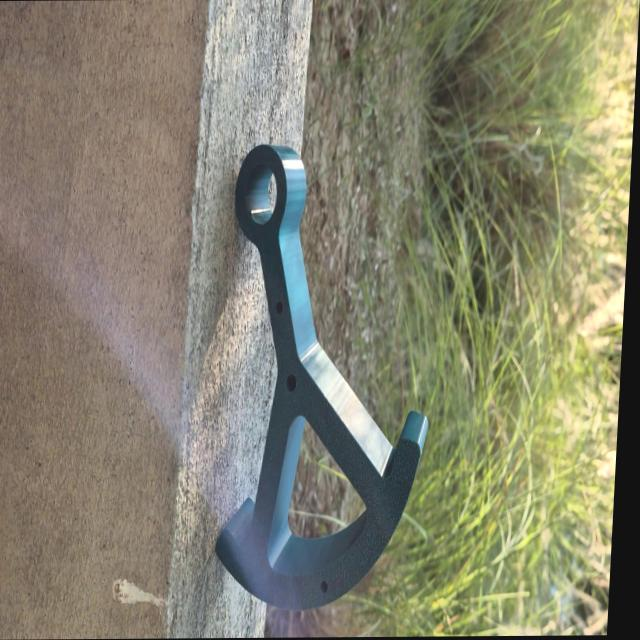haptic: (210, 137, 445, 613)
